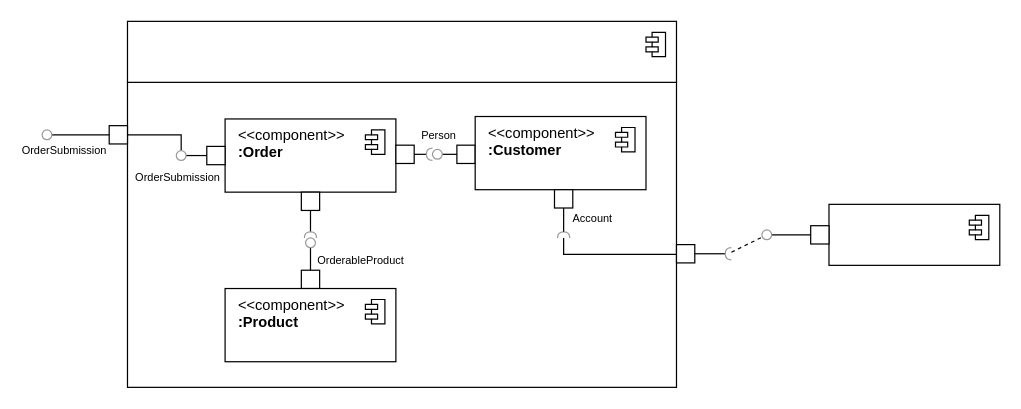
Image size: 1021x409. Some labels were removed from this diagram. Each missing label, with the centre of its shape:
"<<component>> Account" belongs at (x=914, y=234).
"<<component>> OnlineStore" belongs at (x=401, y=51).
